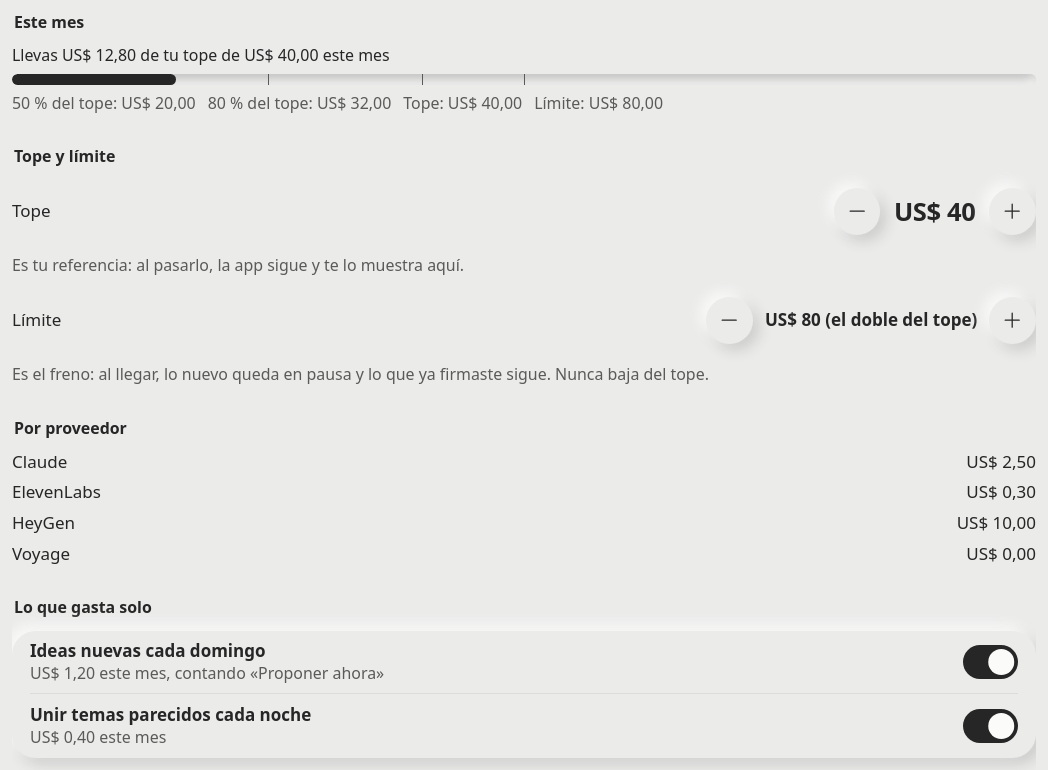
PantallaDePresupuesto › shows the server's warning after a save
This screenshot has width=1048, height=770.
Click the button named "Subir el tope" at {"x": 1013, "y": 212}, box [989,188,1036,235]
Wait 800 ms
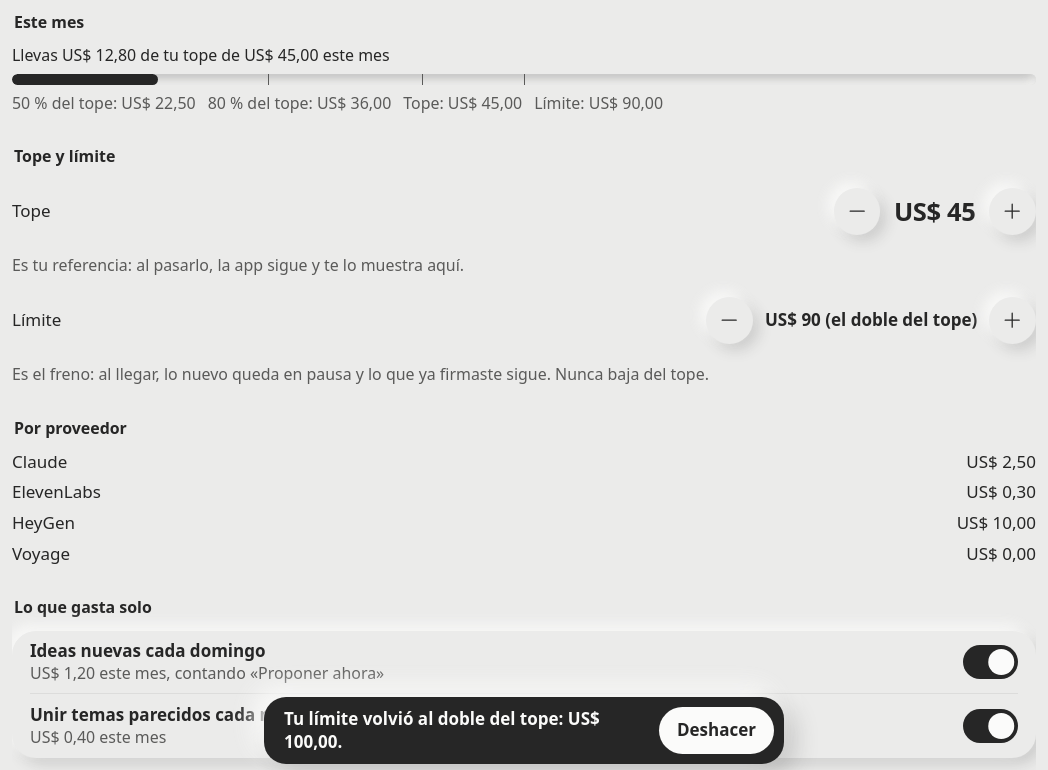
Check: the text "Tu límite volvió al doble del tope: US$ 100,00." is shown, box [284,708,647,753]
